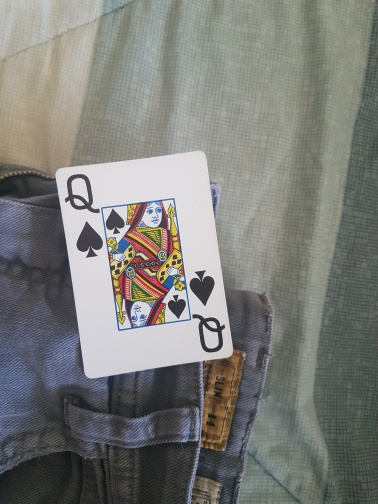queen: (57, 151, 232, 378)
